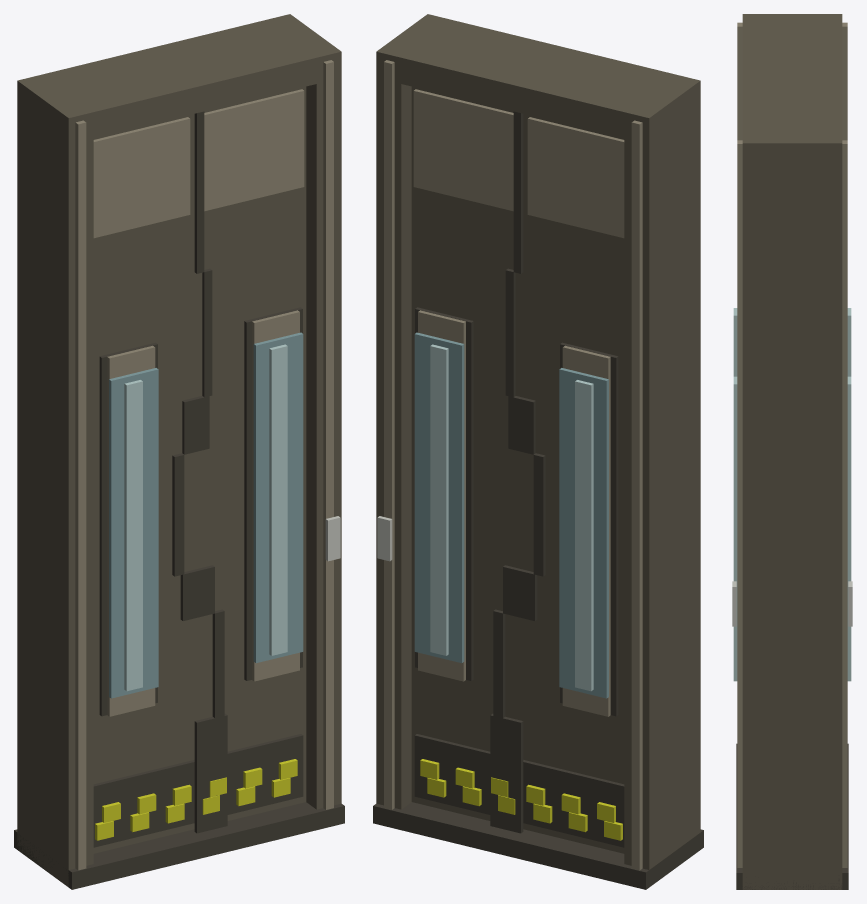
File: CMU3DSingleGovforDoorGlass.glb
3 views of the same model, side by side, from view 1: azimuth 30°, elevation 25°; view 2: azimuth 150°, elevation 25°; view 3: azimuth 270°, elevation 25° (orthographic). The views are drawn at different scales.
Visible parts, largest first — view 1: door jamb (×2), closed leaf body, glass port (×2), header, upper inset band (×2), jamb raised edge (×2), leaf meeting seam (×7), glass reflection (×2), lower hazard backing, threshold, window dark surround (×2), chamfered window shoulder (×2) (+1 smaller); view 2: door jamb (×2), closed leaf body, glass port back (×2), header, upper inset band back (×2), jamb raised edge (×2), leaf meeting seam back (×7), glass reflection back (×2), threshold, lower hazard backing back, window dark surround back (×2), chamfered window shoulder back (×2) (+1 smaller); view 3: door jamb (×2), header, jamb raised edge (×4), glass reflection (×2), glass reflection back (×2), threshold.
Part boxes in pixels (left/top/right/bottom): door jamb (×2): left=17, top=14, right=341, bottom=887; closed leaf body: left=93, top=86, right=306, bottom=853; glass port (×2): left=109, top=332, right=303, bottom=698; header: left=17, top=14, right=341, bottom=144; upper inset band (×2): left=93, top=89, right=304, bottom=238; jamb raised edge (×2): left=75, top=60, right=333, bottom=870; leaf meeting seam (×7): left=172, top=111, right=227, bottom=833; glass reflection (×2): left=124, top=344, right=287, bottom=691; lower hazard backing: left=93, top=734, right=303, bottom=847; threshold: left=14, top=802, right=344, bottom=889; window dark surround (×2): left=99, top=307, right=302, bottom=716; chamfered window shoulder (×2): left=107, top=310, right=299, bottom=716; door jamb (×2): left=376, top=14, right=700, bottom=869; closed leaf body: left=411, top=86, right=624, bottom=853; glass port back (×2): left=414, top=332, right=608, bottom=698; header: left=376, top=14, right=700, bottom=144; upper inset band back (×2): left=413, top=89, right=624, bottom=238; jamb raised edge (×2): left=384, top=60, right=642, bottom=870; leaf meeting seam back (×7): left=490, top=111, right=545, bottom=833; glass reflection back (×2): left=430, top=344, right=593, bottom=691; threshold: left=373, top=802, right=703, bottom=889; lower hazard backing back: left=414, top=734, right=624, bottom=847; window dark surround back (×2): left=415, top=307, right=618, bottom=716; chamfered window shoulder back (×2): left=418, top=310, right=610, bottom=716; door jamb (×2): left=742, top=14, right=842, bottom=889; header: left=742, top=14, right=842, bottom=168; jamb raised edge (×4): left=737, top=22, right=847, bottom=867; glass reflection (×2): left=733, top=308, right=737, bottom=681; glass reflection back (×2): left=847, top=308, right=851, bottom=681; threshold: left=736, top=743, right=848, bottom=889.
Bounding box in the file's own units: 0.98 × 2.64 × 0.386.
